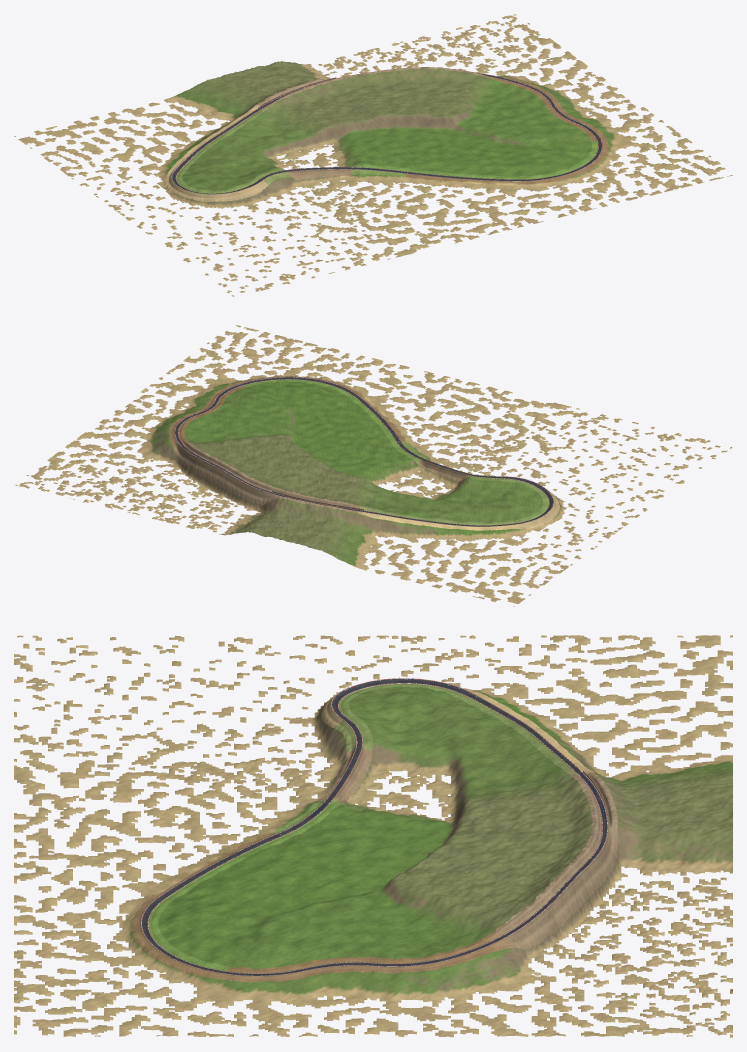
The model's file is track.glb.
3 renders of one model, top to bottom at view 1: azimuth 30°, elevation 25°; view 2: azimuth 150°, elevation 25°; view 3: azimuth 270°, elevation 25°, orthographic. The views are drawn at different scales.
Visible parts, largest first — view 1: terrain, shoulders, road, kerbs; view 2: terrain, shoulders, road, kerbs; view 3: terrain, shoulders, road, kerbs.
Part boxes in pixels (left/top/right/bottom): terrain: left=14, top=14, right=732, bottom=296; shoulders: left=165, top=67, right=608, bottom=201; road: left=172, top=72, right=601, bottom=194; kerbs: left=171, top=70, right=602, bottom=194; terrain: left=15, top=325, right=732, bottom=606; shoulders: left=168, top=376, right=559, bottom=530; road: left=175, top=377, right=553, bottom=526; kerbs: left=174, top=377, right=553, bottom=526; terrain: left=14, top=635, right=732, bottom=1037; shoulders: left=131, top=683, right=617, bottom=982; road: left=141, top=678, right=607, bottom=975; kerbs: left=141, top=678, right=607, bottom=976.
Size of the model in its own units: 2448 by 111 by 1856.
